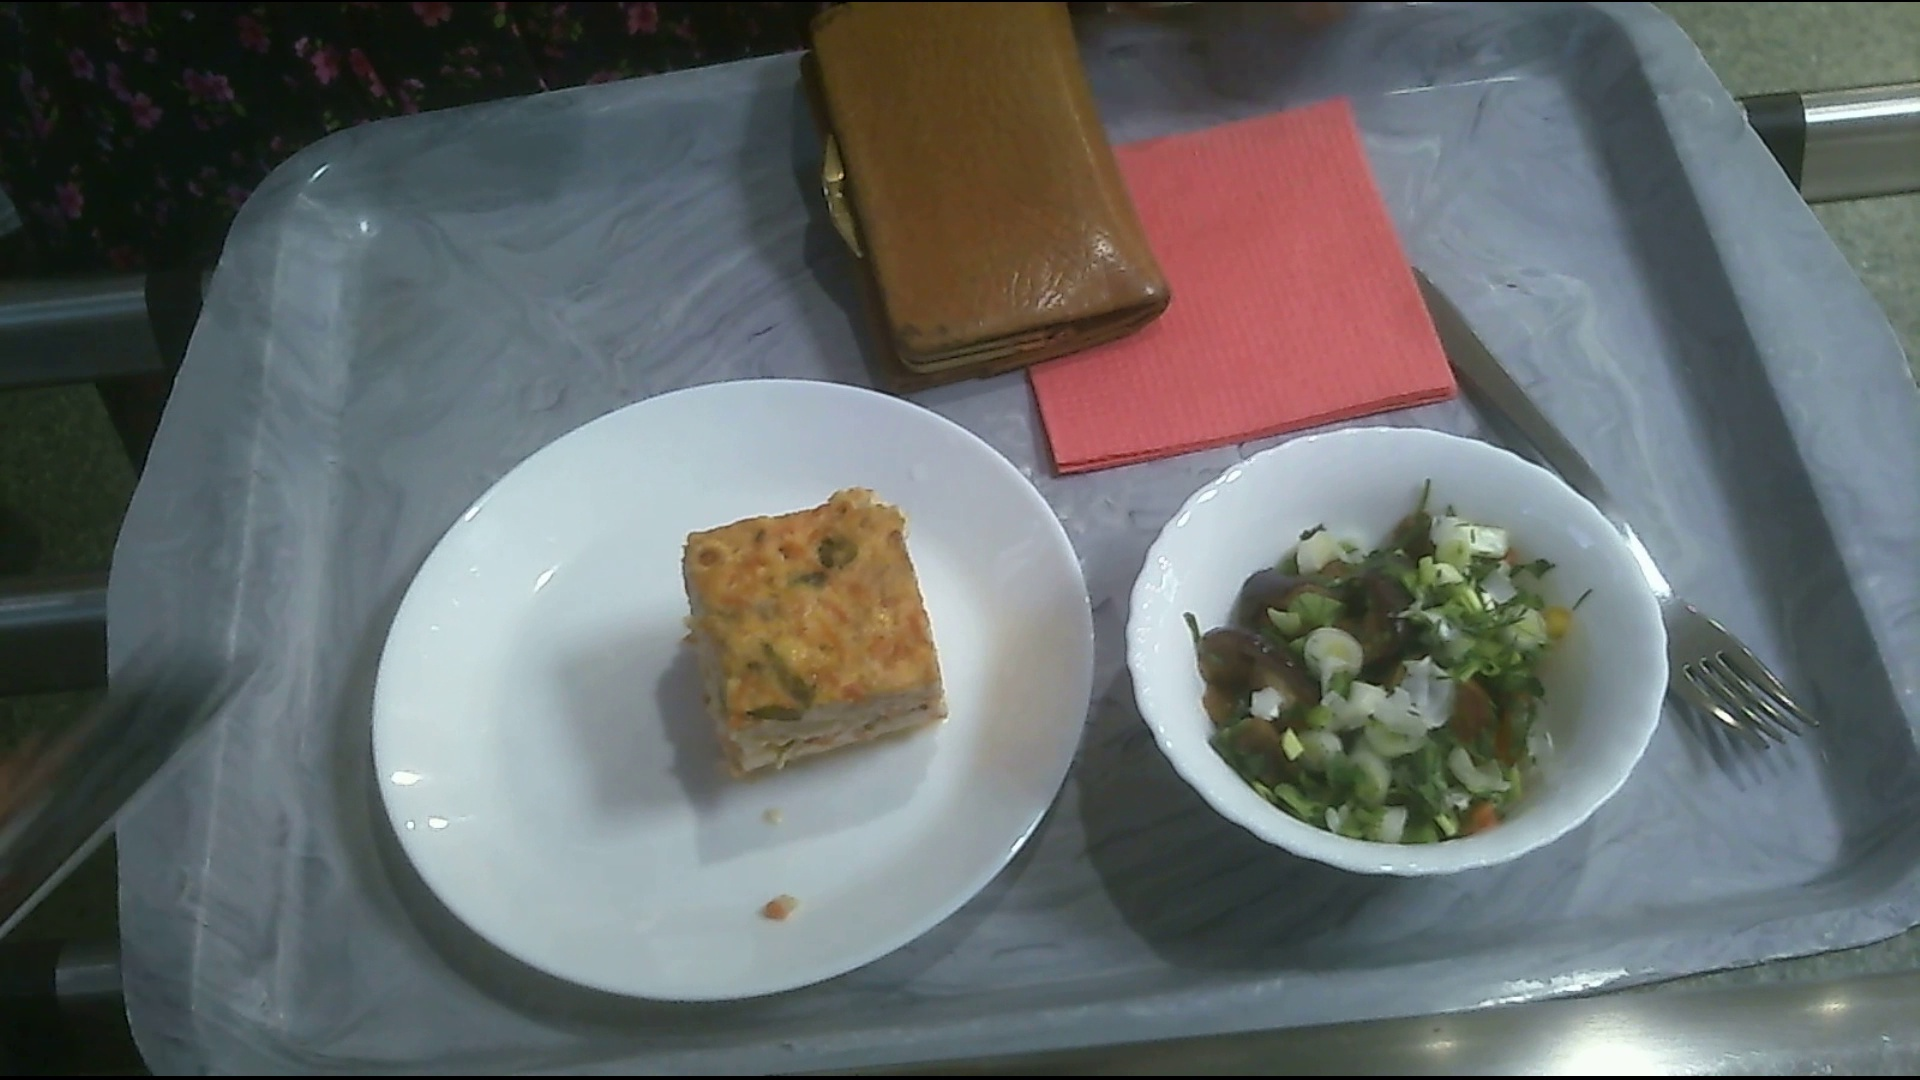bowl: (1149, 422, 1669, 882)
cutlery: (1404, 251, 1817, 760)
other: (800, 7, 1168, 367)
plate: (382, 384, 1100, 1011)
